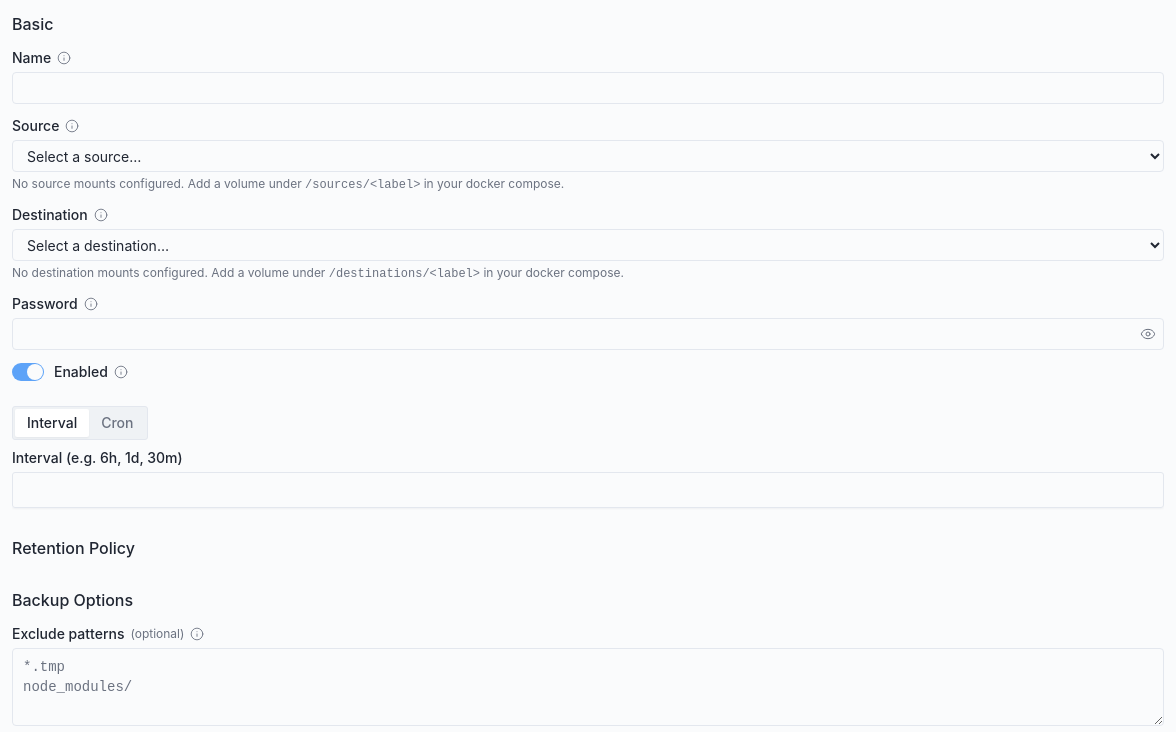
Scenario: JobForm › password visibility toggle › masks it again on a second click
The width and height of the screenshot is (1176, 732).
Step 1. Click the button named "show password" → click(1148, 334), box [1132,318,1164,350]
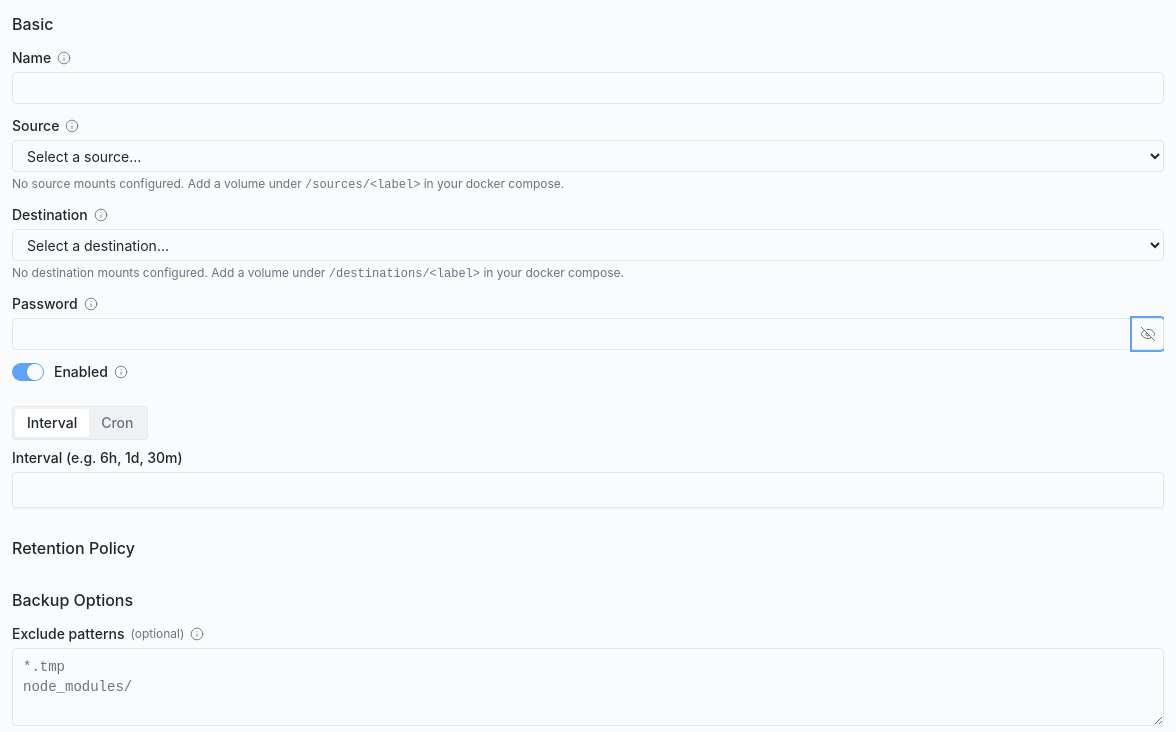
Step 2. Click the button named "hide password" → click(1148, 334), box [1132,318,1164,350]
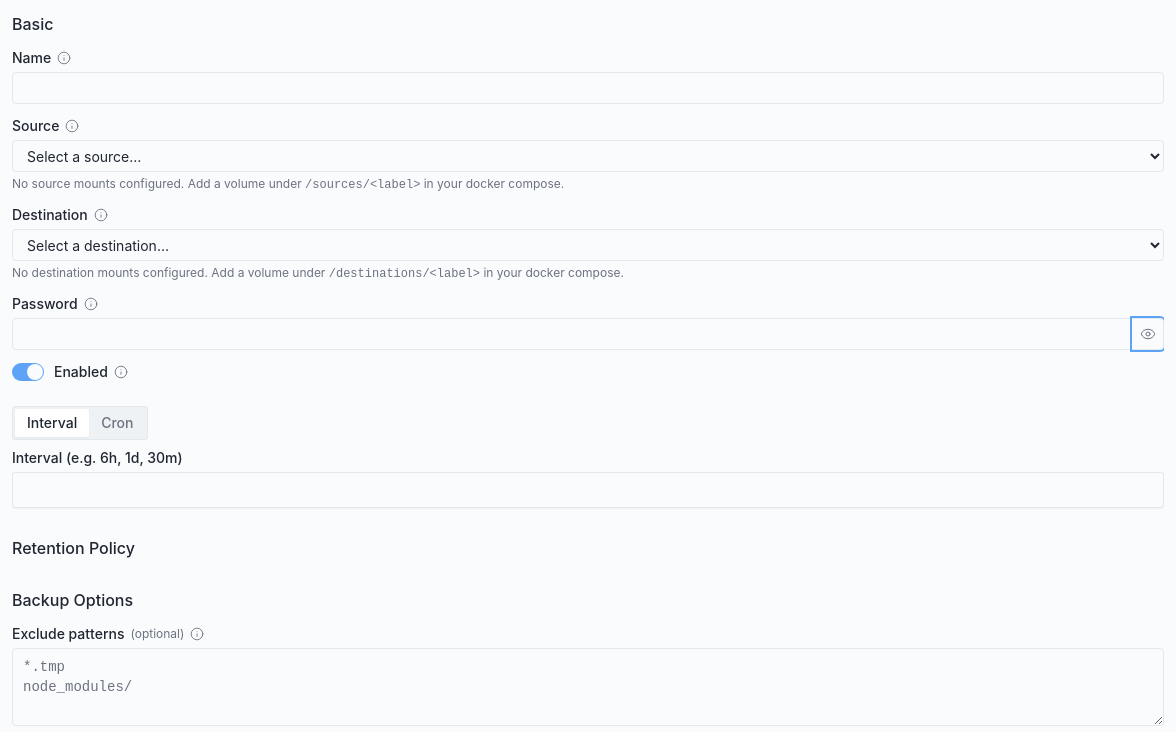
Now the button named "show password" is shown, box [1132,318,1164,350]
